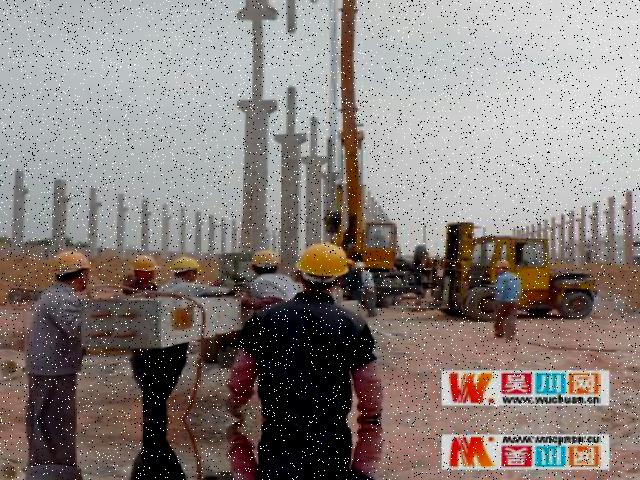Helmet: (288, 236, 352, 292), (41, 246, 94, 282), (241, 244, 285, 274), (122, 250, 163, 276), (166, 252, 199, 278)
